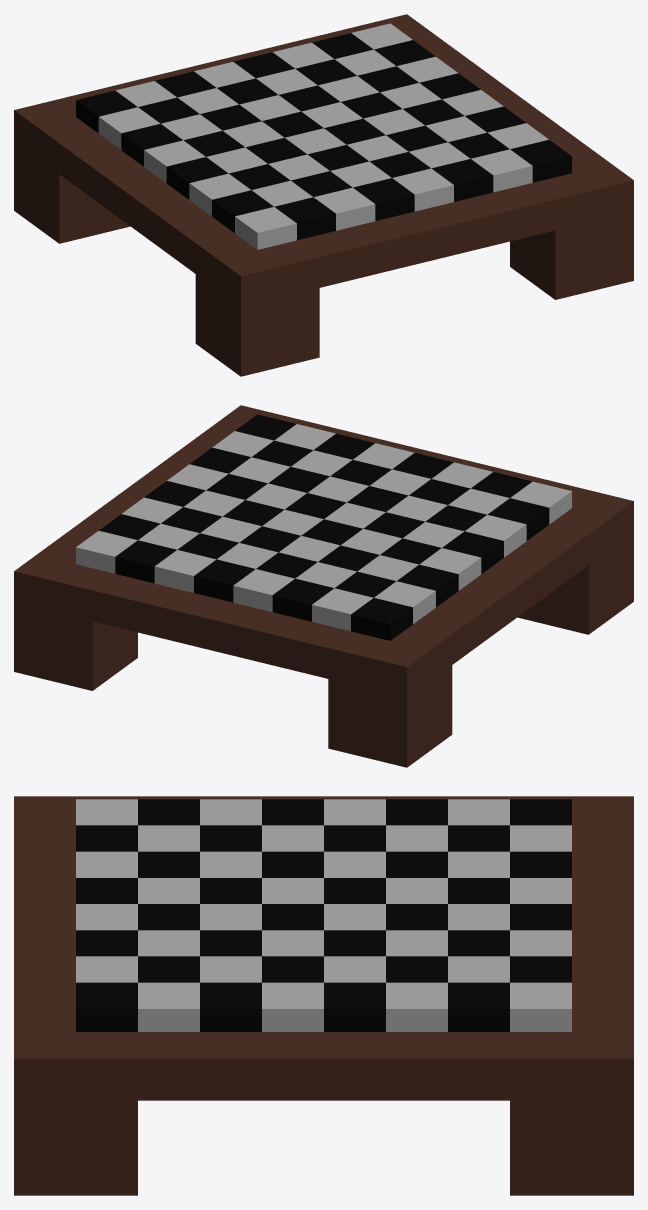
The model's file is SM_ChessBoard.fbx.
3 views of the same model, one above another, from view 1: azimuth 30°, elevation 25°; view 2: azimuth 150°, elevation 25°; view 3: azimuth 270°, elevation 25° (orthographic). The views are drawn at different scales.
Parts seen in each view (by area): view 1: SM_chessboard; view 2: SM_chessboard; view 3: SM_chessboard.
Boxes of the visible parts, x1,y1,x2,y2 form: SM_chessboard: (14, 14, 633, 376); SM_chessboard: (14, 405, 633, 767); SM_chessboard: (14, 796, 633, 1195).
Bounding box in the file's own units: 1 × 0.2859 × 1.
